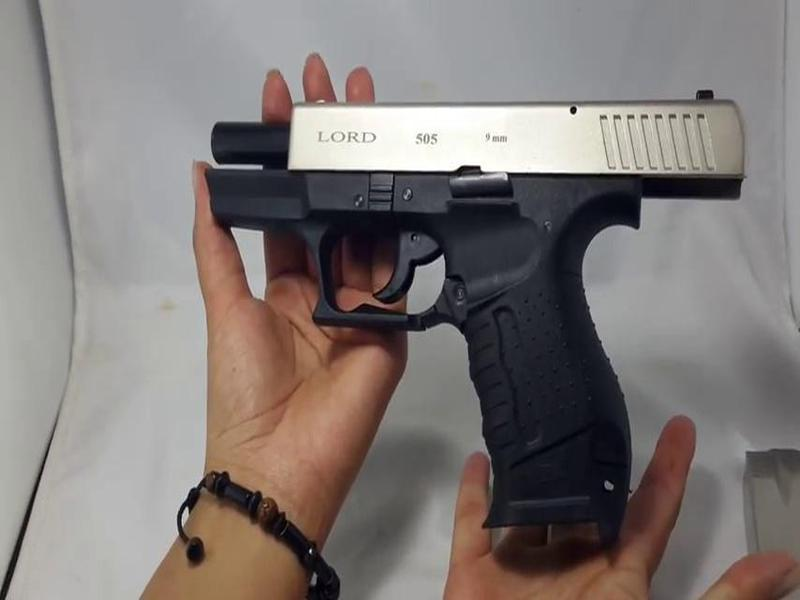Pistola: (201, 39, 758, 532)
